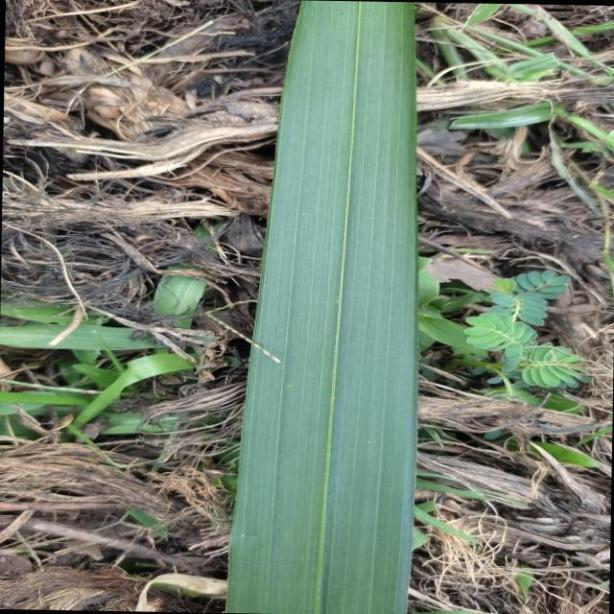Healthy: (228, 0, 416, 614)
